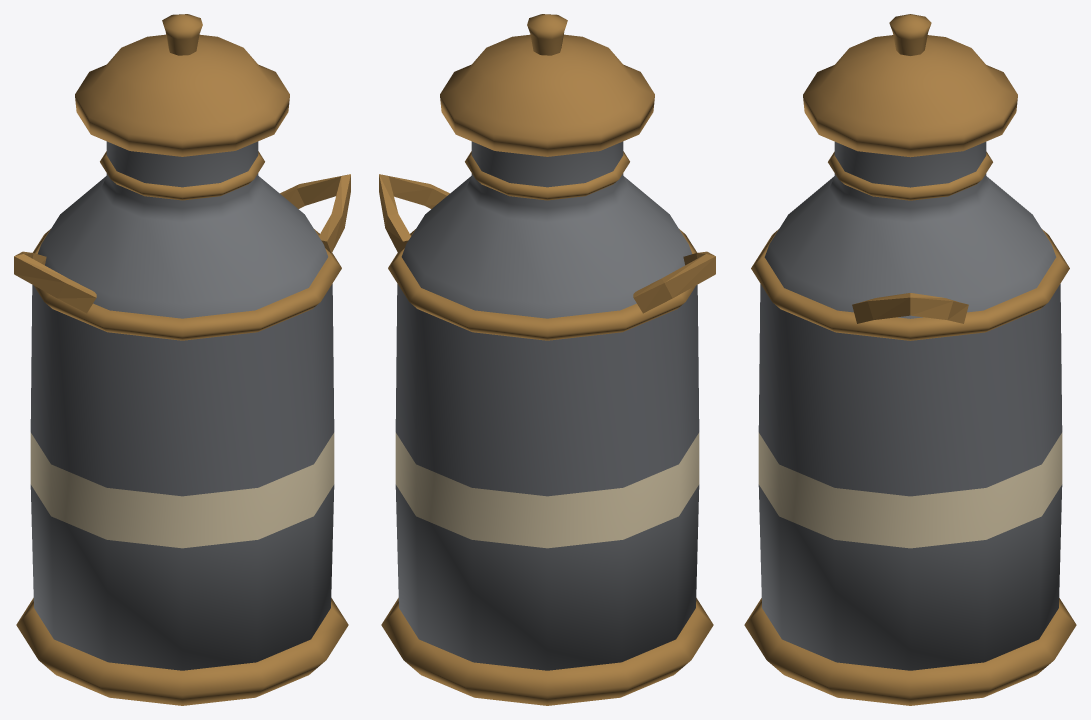
The model's file is prop_milk_churn_a.glb.
The picture shows the model from 3 angles, left to right: view 1: azimuth 30°, elevation 25°; view 2: azimuth 150°, elevation 25°; view 3: azimuth 270°, elevation 25°; orthographic projection.
Visible parts, largest first — view 1: prop_milk_churn_a_mesh; view 2: prop_milk_churn_a_mesh; view 3: prop_milk_churn_a_mesh.
Boxes of the visible parts, bbox=[...] form: prop_milk_churn_a_mesh: bbox=[14, 14, 350, 705]; prop_milk_churn_a_mesh: bbox=[379, 14, 715, 705]; prop_milk_churn_a_mesh: bbox=[744, 14, 1076, 705].
Bounding box in the file's own units: 0.4407 × 0.7866 × 0.3768.
